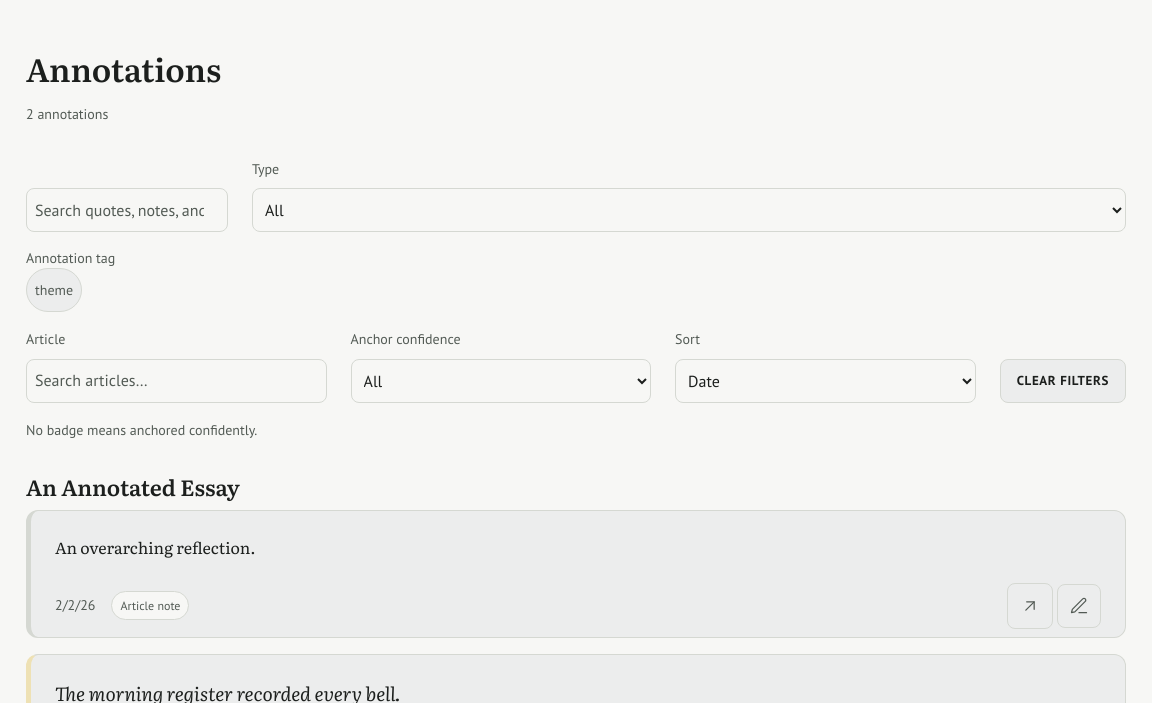
Test: ReviewView article-note rows (issue #210) › a confirmed delete announces honestly and invalidates the ONE snapshot
Click the button named "Edit article note: An overarching reflection." at point(1079, 606), box [1057,584,1101,628]
(page scrolled)
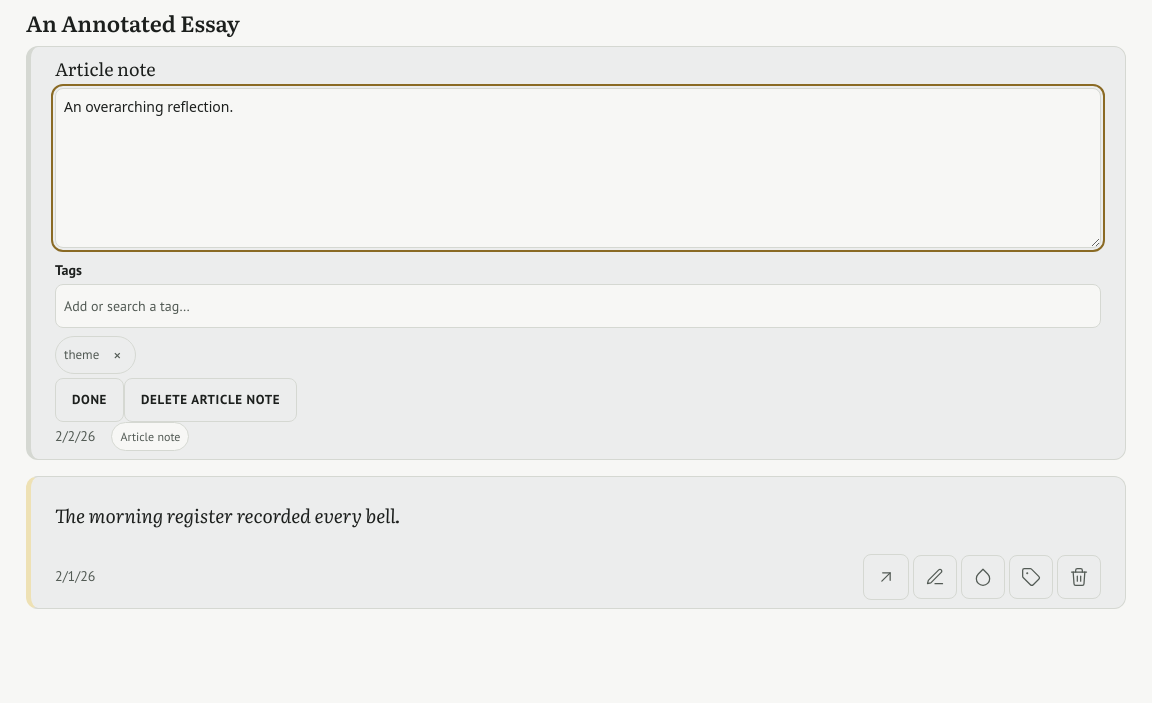
Click the button "Delete article note" at point(211, 400), box [124,378,297,422]
(page scrolled)
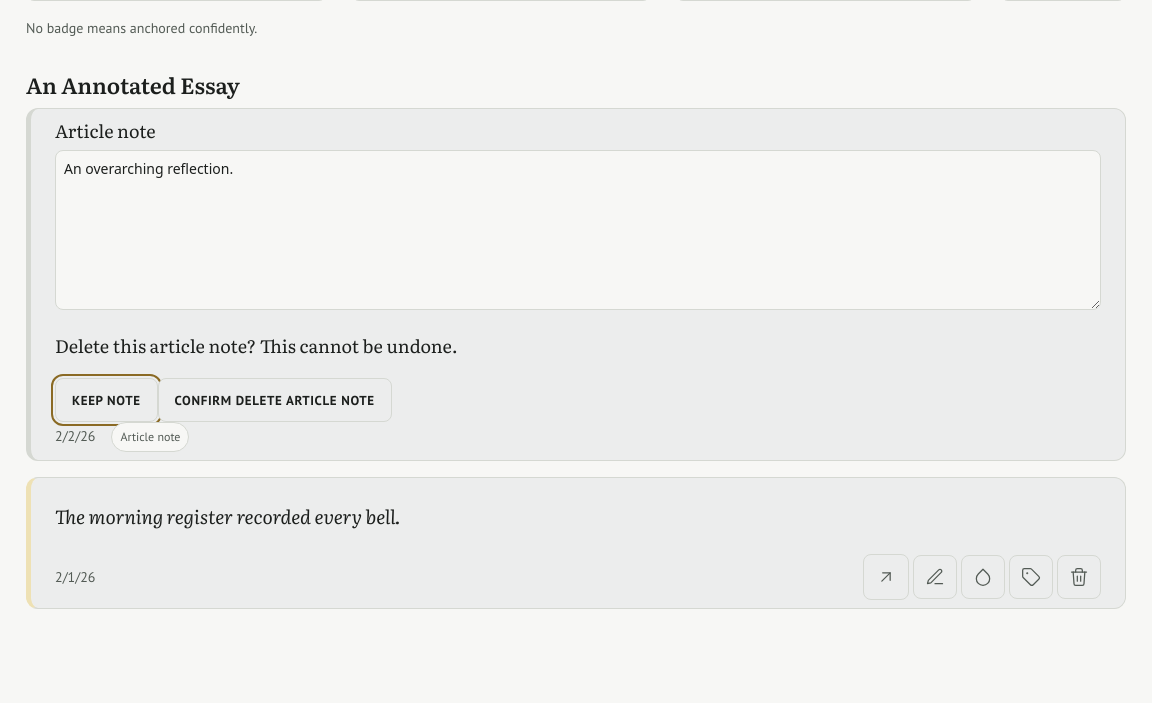
Click the button "Confirm delete article note" at point(275, 400), box [158,378,392,422]
(page scrolled)
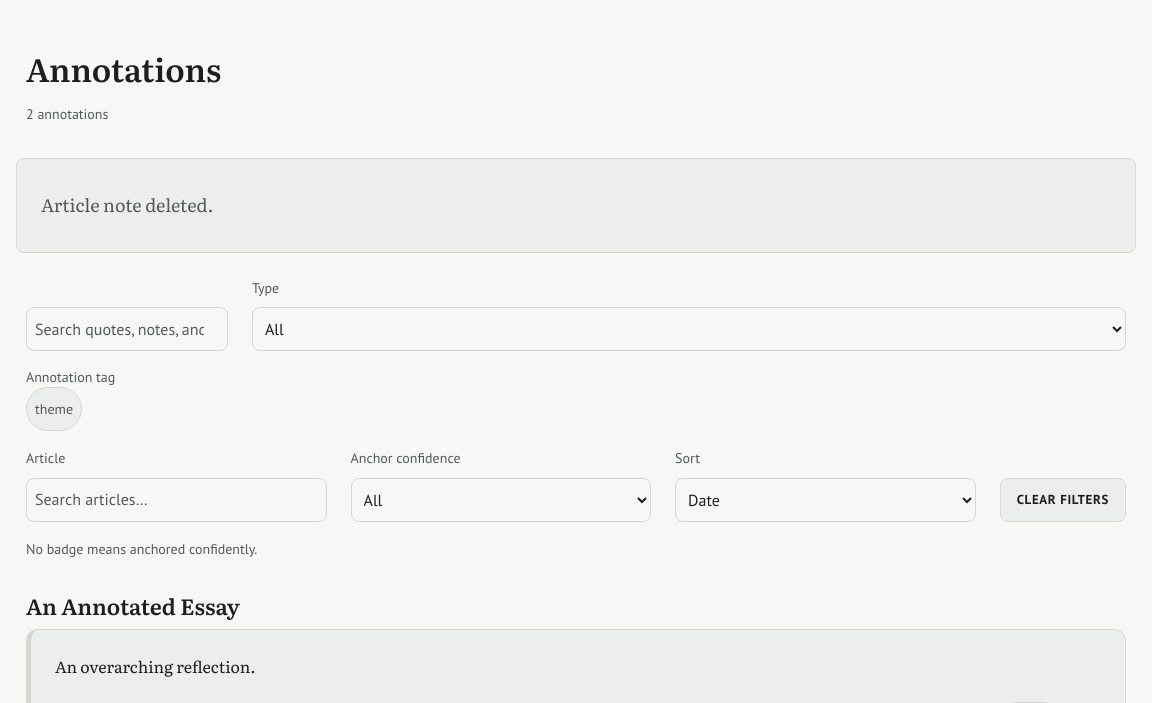
Result: the text "Article note deleted." is shown at [41,191,214,218]
